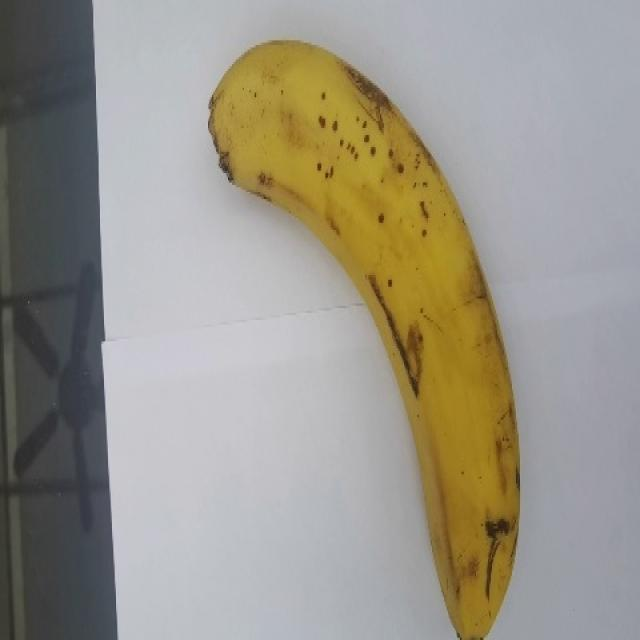Banana: (204, 41, 526, 640)
